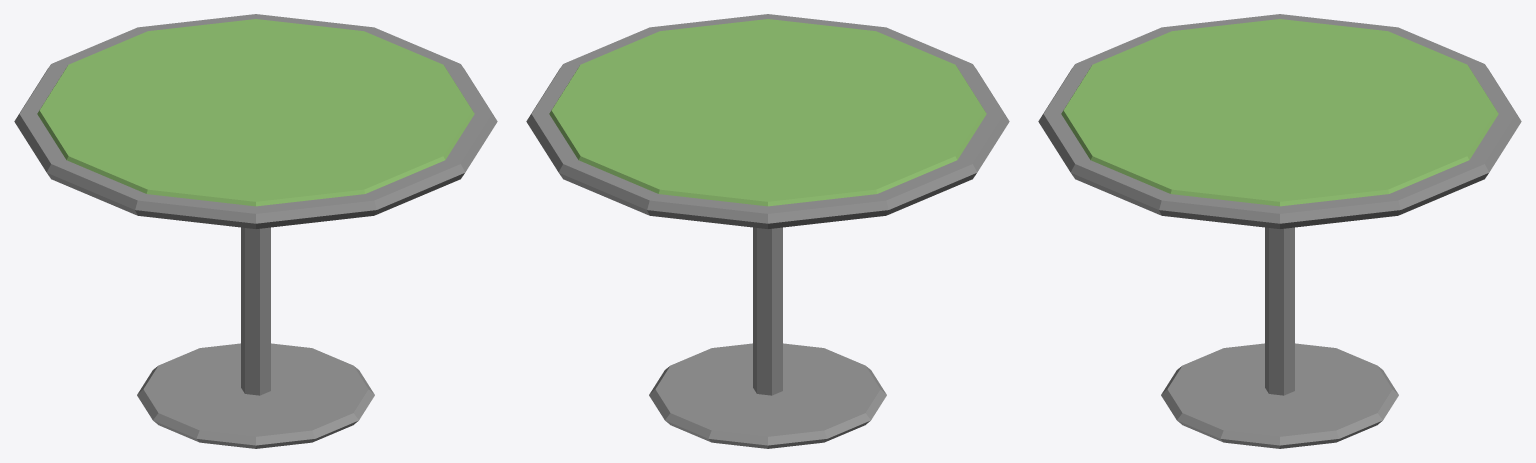
File: Int_Table06_1.fbx
3 views of the same model, side by side, from view 1: azimuth 30°, elevation 25°; view 2: azimuth 150°, elevation 25°; view 3: azimuth 270°, elevation 25° (orthographic).
Visible parts, largest first — view 1: Int_Table06_1; view 2: Int_Table06_1; view 3: Int_Table06_1.
Boxes of the visible parts, box(x1,y1,x2,y2) form: Int_Table06_1: box(14, 14, 497, 448); Int_Table06_1: box(526, 14, 1009, 448); Int_Table06_1: box(1038, 14, 1521, 448).
Size of what is drawn, in the model's own units: 105 by 105 by 69.96.
